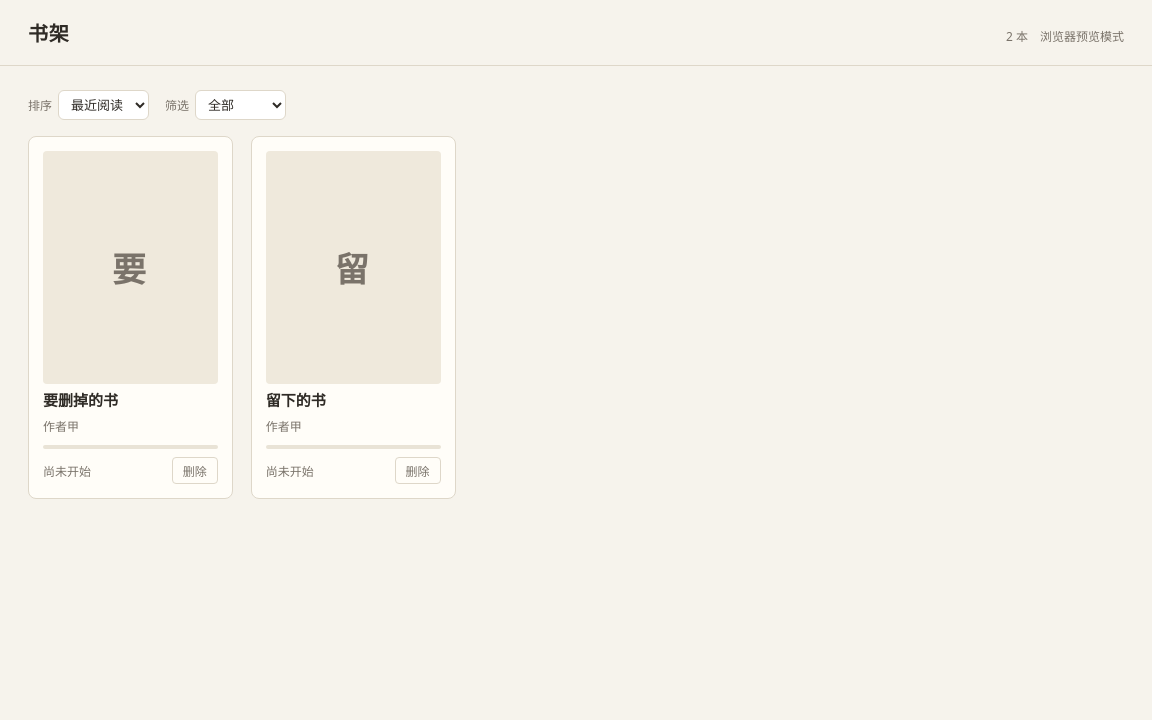
Test case: Bookshelf › 点击删除会移除书籍并更新计数
Expected: the heading "要删掉的书" is shown, [43, 390, 118, 411]
Click the button with aria-label "删除《要删掉的书》" at (195,471), box [172, 457, 218, 484]
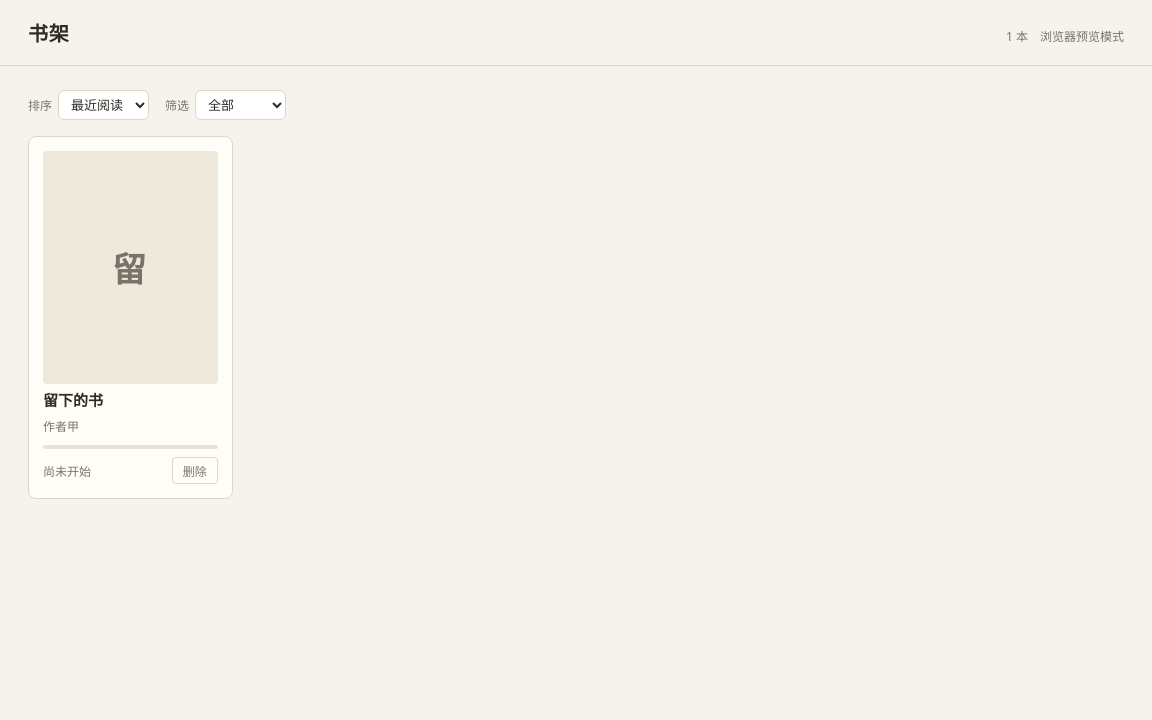
Expected: the heading "留下的书" is shown, [43, 390, 103, 411]
Now the button "要删掉的书" is gone
Now the text "1 本" is shown, box [1006, 27, 1028, 45]
